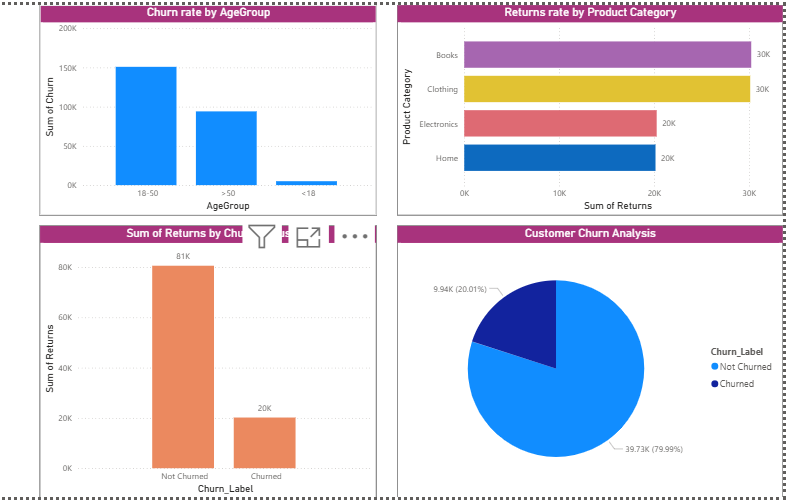

The page's visual inventory and layout, read from the dashboard file:
{"tool":"powerbi","page":{"name":"Churn and Return Analysis","canvas":[1280,720],"ordinal":1},"visuals":[{"type":"pieChart","title":"Customer Churn Analysis","fields":{"Y":["Count(ecommerce_cleaned_for_powerbi.Customer ID)"],"Category":["ecommerce_cleaned_for_powerbi.Churn_Label"]},"box":[715,321.8,564.1,399.2],"z":0},{"type":"clusteredColumnChart","title":"Sum of Returns by Churn Status","fields":{"Category":["ecommerce_cleaned_for_powerbi.Churn_Label"],"Y":["Sum(ecommerce_cleaned_for_powerbi.Returns)"]},"box":[192.7,321.8,492.6,399.2],"z":1},{"type":"clusteredBarChart","title":"Returns rate by Product Category","fields":{"Category":["ecommerce_cleaned_for_powerbi.Product Category"],"Y":["Sum(ecommerce_cleaned_for_powerbi.Returns)"]},"box":[715,0,564.1,307.9],"z":2},{"type":"clusteredColumnChart","title":"Churn rate by AgeGroup","fields":{"Category":["ecommerce_cleaned_for_powerbi.AgeGroup"],"Y":["CountNonNull(ecommerce_cleaned_for_powerbi.Churn_Label)"]},"box":[192.7,0,492.6,307.9],"z":3}]}

Visuals, with their boxes on the page's 1280x720 design canvas (x1, y1, x2, y2). These are canvas units, not pixel positions in the 799x503 screenshot, which may show the page scaled, cropped or inside an application window:
"Customer Churn Analysis" pieChart: (715, 322, 1279, 721)
"Sum of Returns by Churn Status" clusteredColumnChart: (193, 322, 685, 721)
"Returns rate by Product Category" clusteredBarChart: (715, 0, 1279, 308)
"Churn rate by AgeGroup" clusteredColumnChart: (193, 0, 685, 308)
